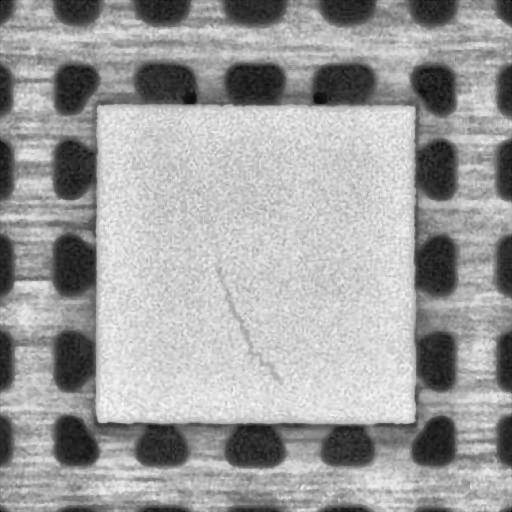DIE_CRACK: (214, 262, 290, 388)
